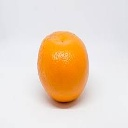orange: (36, 29, 92, 106)
